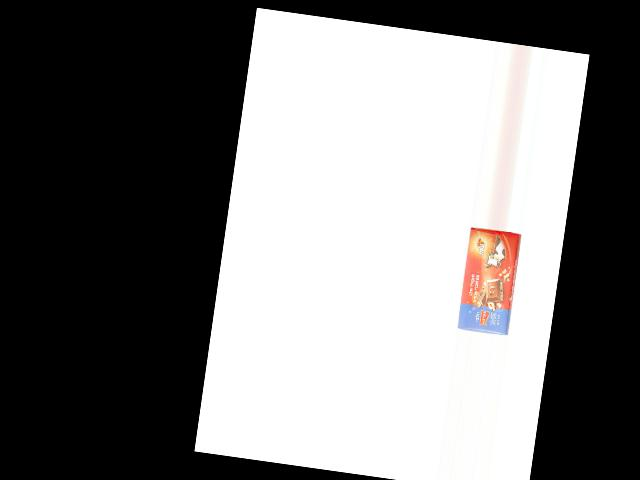chocolate: (457, 227, 526, 335)
